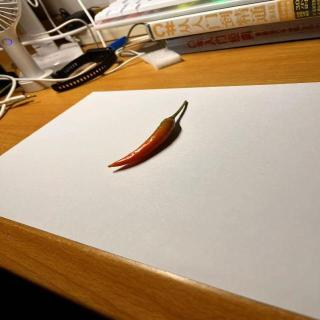Cabai Merah: (108, 101, 188, 169)
